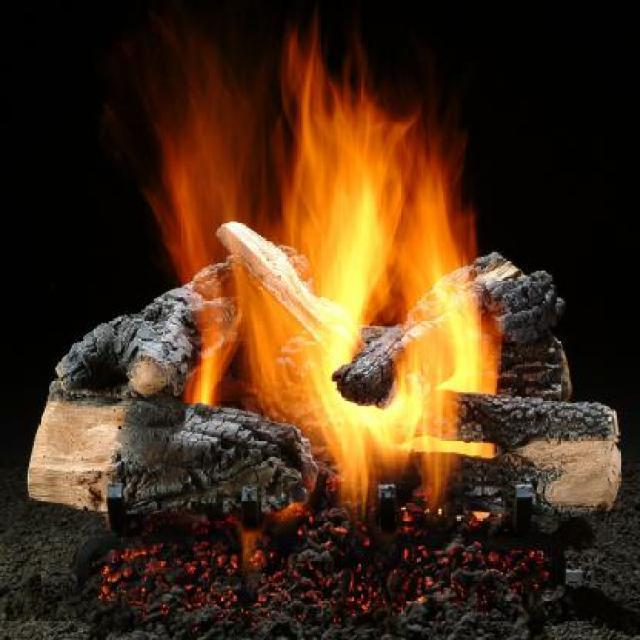Fire: (188, 32, 502, 402), (306, 404, 460, 503)
